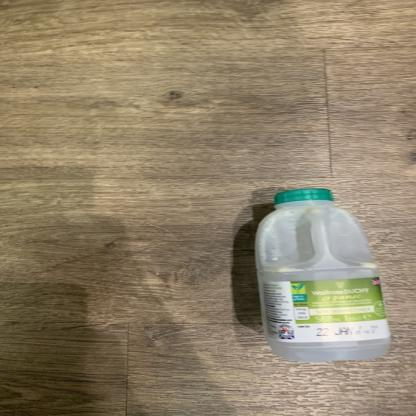trash: (253, 182, 393, 363)
